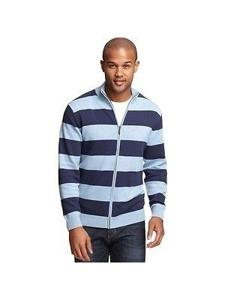C_cardigan sweater: (42, 80, 177, 233)
